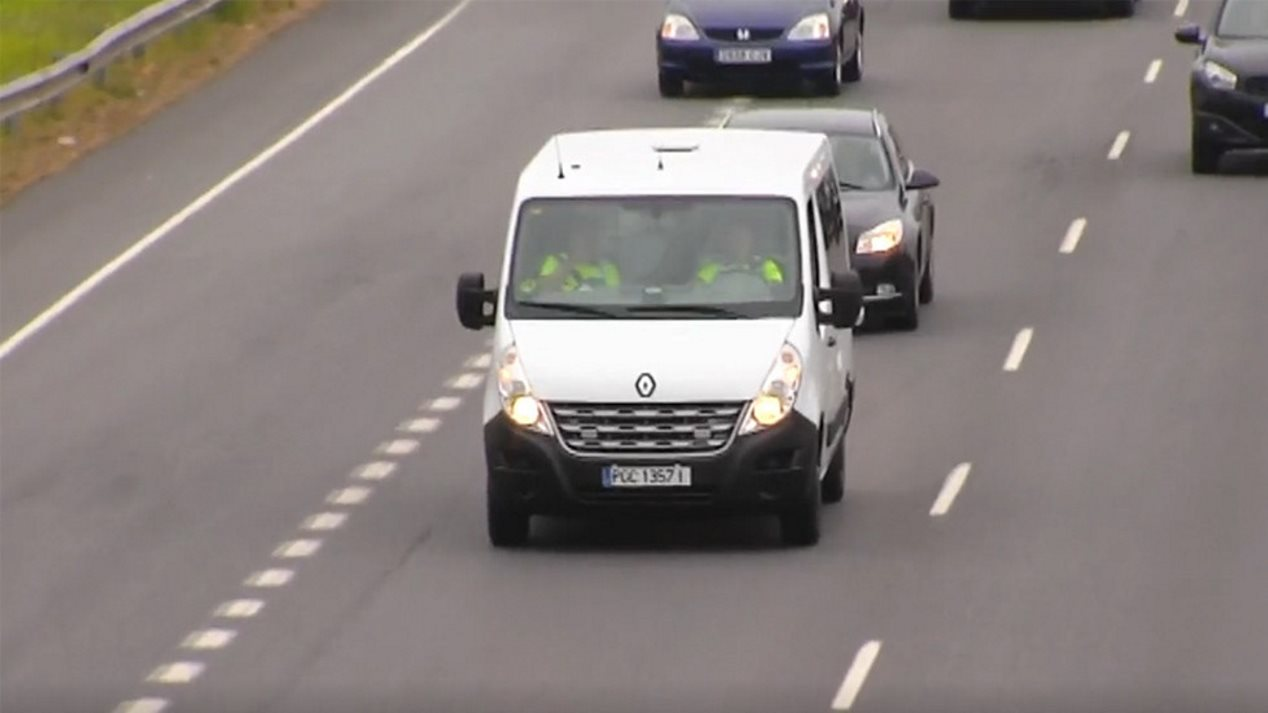Vehiculo: (440, 124, 871, 555)
